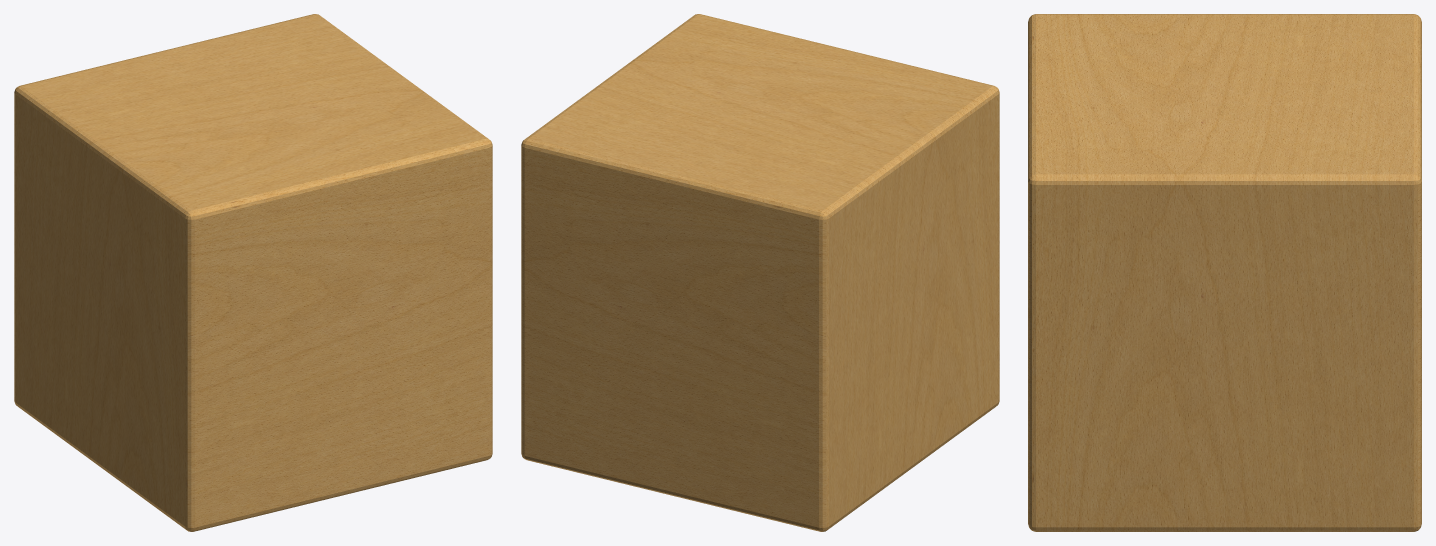
The picture shows the model from 3 angles, left to right: view 1: azimuth 30°, elevation 25°; view 2: azimuth 150°, elevation 25°; view 3: azimuth 270°, elevation 25°; orthographic projection. The views are drawn at different scales.
Visible parts, largest first — view 1: wooden_block_7_5; view 2: wooden_block_7_5; view 3: wooden_block_7_5.
Part boxes in pixels (x1,y1,x2,y2): wooden_block_7_5: [14, 14, 492, 531]; wooden_block_7_5: [521, 14, 999, 531]; wooden_block_7_5: [1028, 14, 1421, 531].
Bounding box in the file's own units: 0.075 × 0.075 × 0.075.
Materials: 1 (1 with a texture image).
